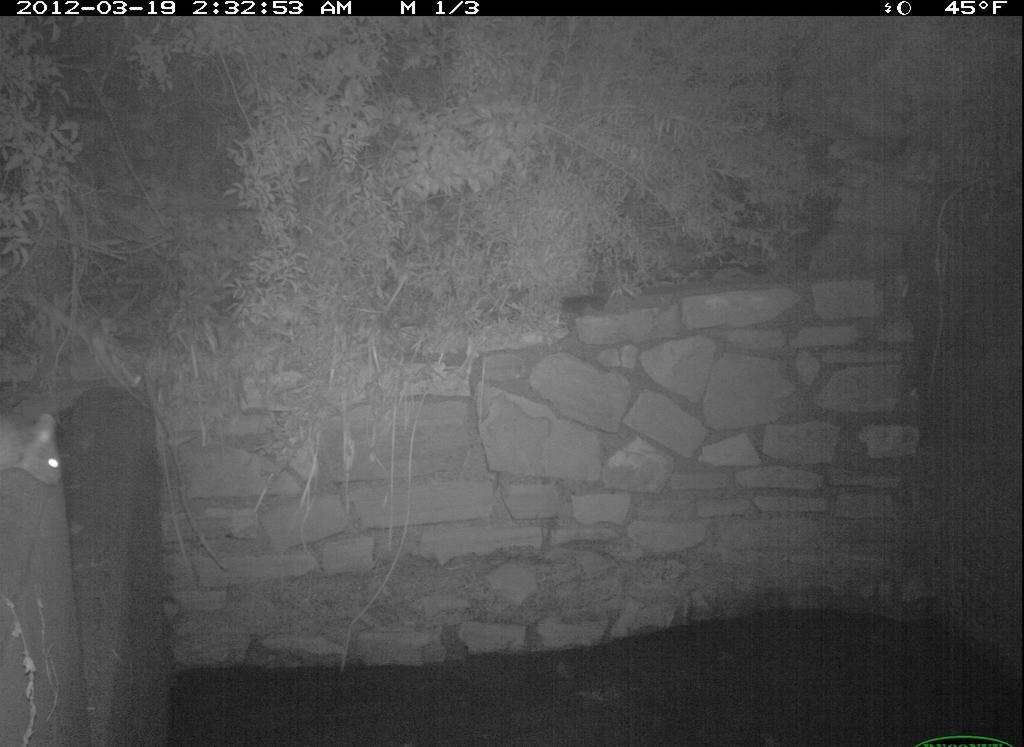rodent: (3, 408, 73, 509)
